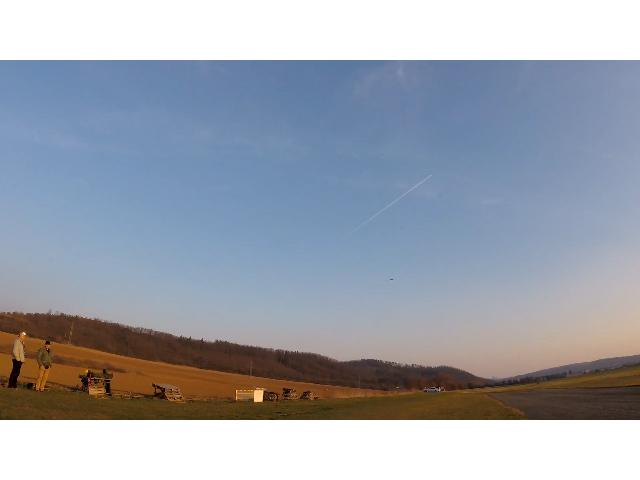Anti-Drone: (382, 276, 400, 284)
